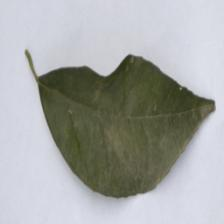healthy: (40, 54, 216, 200)
